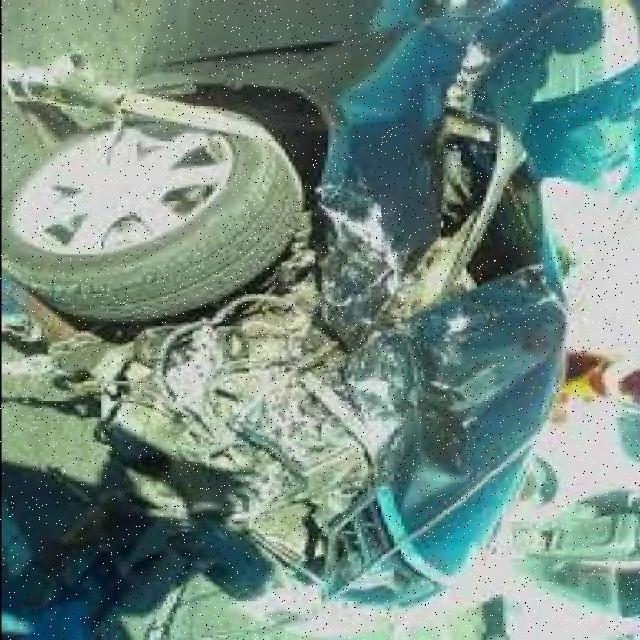damage: (55, 20, 569, 597)
